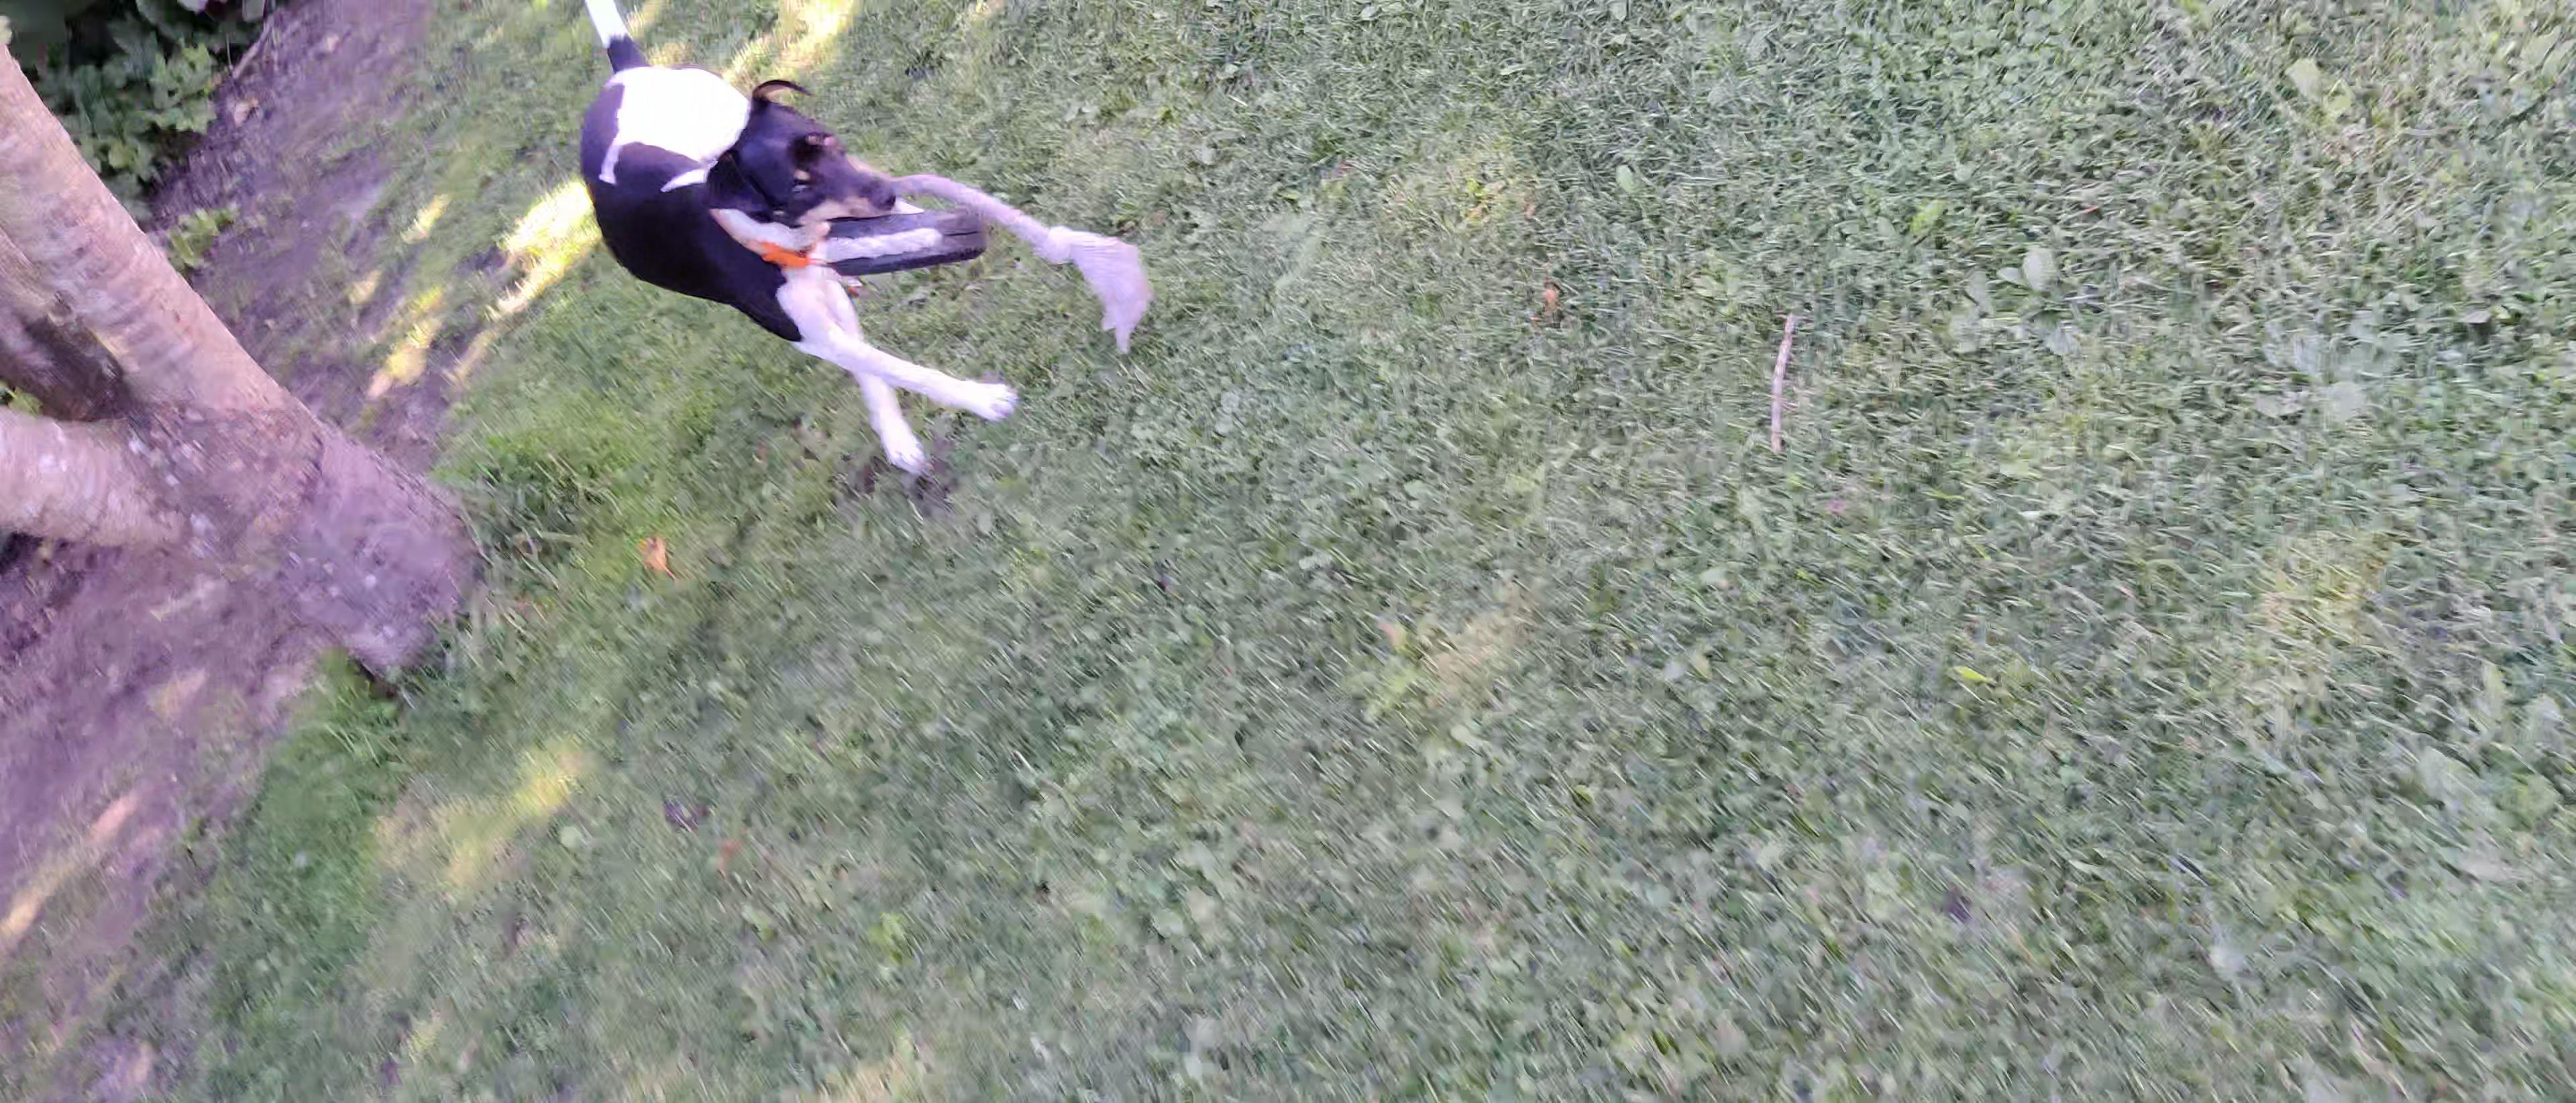Dog: (527, 0, 1048, 482)
